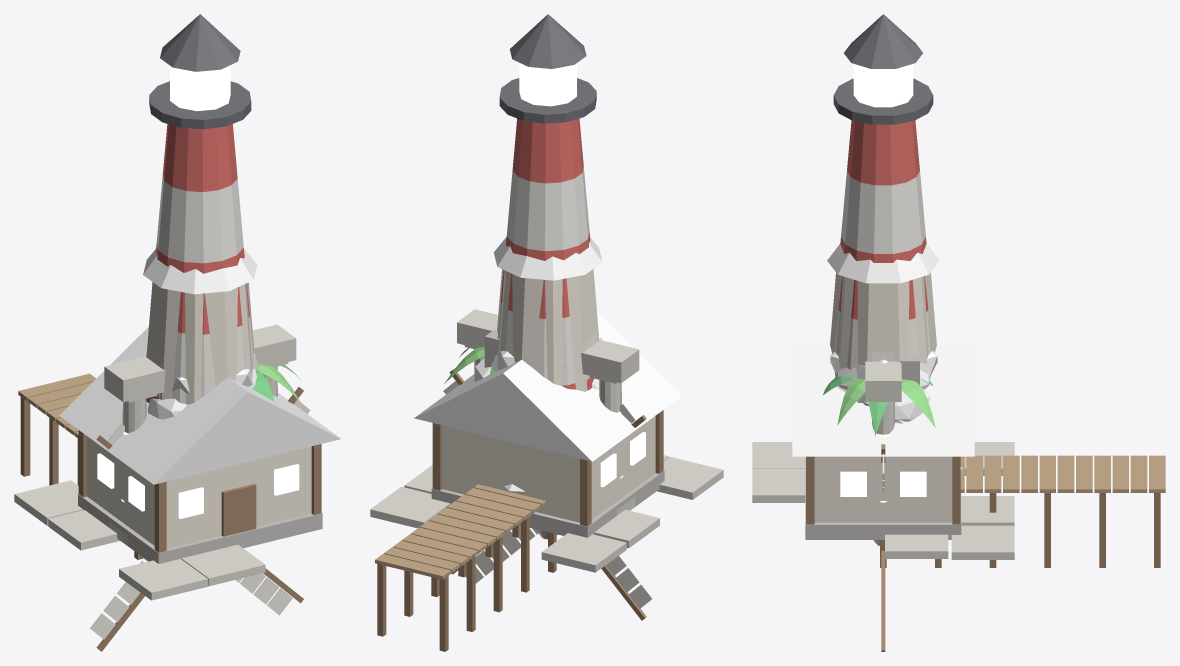
File: props.glb
3 views of the same model, side by side, from view 1: azimuth 30°, elevation 25°; view 2: azimuth 150°, elevation 25°; view 3: azimuth 270°, elevation 25° (orthographic). The views are drawn at different scales.
Visible parts, largest first — view 1: House, Lighthouse, WindmillBase, RuinFloor, Arch, Dock, WindmillBlades, Palm, TreeRound, TreeRoundFar; view 2: House, Lighthouse, Dock, WindmillBase, RuinFloor, Arch, WindmillBlades; view 3: House, Lighthouse, Dock, WindmillBase, RuinFloor, Arch, Palm, TreeRound, WindmillBlades, TreeRoundFar.
Boxes of the visible parts, bbox=[...] form: House: bbox=[59, 327, 340, 563]; Lighthouse: bbox=[146, 14, 254, 403]; WindmillBase: bbox=[143, 248, 257, 404]; RuinFloor: bbox=[14, 480, 265, 600]; Arch: bbox=[104, 324, 296, 545]; Dock: bbox=[18, 373, 143, 559]; WindmillBlades: bbox=[90, 387, 310, 651]; Palm: bbox=[252, 364, 301, 401]; TreeRound: bbox=[147, 363, 256, 419]; TreeRoundFar: bbox=[146, 353, 257, 393]; House: bbox=[414, 311, 681, 537]; Lighthouse: bbox=[497, 14, 596, 390]; Dock: bbox=[375, 484, 556, 651]; WindmillBase: bbox=[493, 237, 602, 391]; RuinFloor: bbox=[370, 455, 723, 572]; Arch: bbox=[457, 309, 639, 515]; WindmillBlades: bbox=[443, 368, 652, 620]; House: bbox=[792, 345, 974, 539]; Lighthouse: bbox=[833, 14, 933, 369]; Dock: bbox=[880, 455, 1165, 567]; WindmillBase: bbox=[827, 244, 939, 368]; RuinFloor: bbox=[752, 442, 1014, 559]; Arch: bbox=[865, 361, 901, 502]; Palm: bbox=[823, 376, 935, 435]; TreeRound: bbox=[835, 367, 930, 421]; WindmillBlades: bbox=[881, 444, 885, 651]; TreeRoundFar: bbox=[830, 351, 937, 402].
Bounding box in the file's own units: 7.97 × 19.89 × 12.45.
